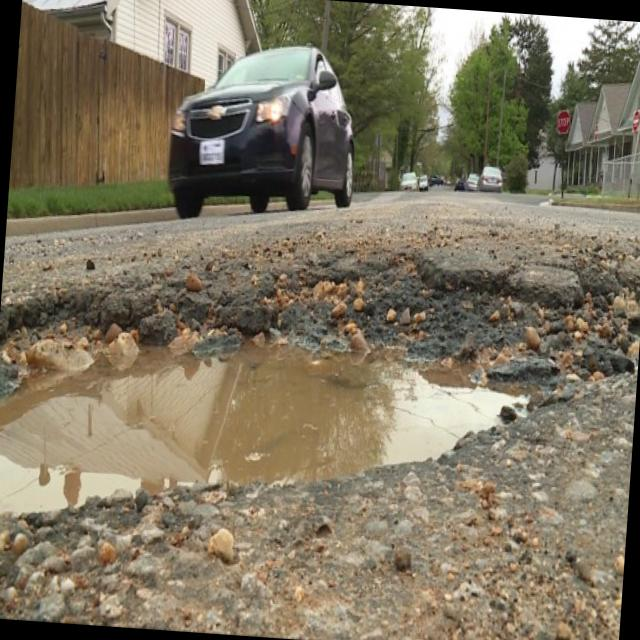Potholes: (0, 213, 638, 555)
